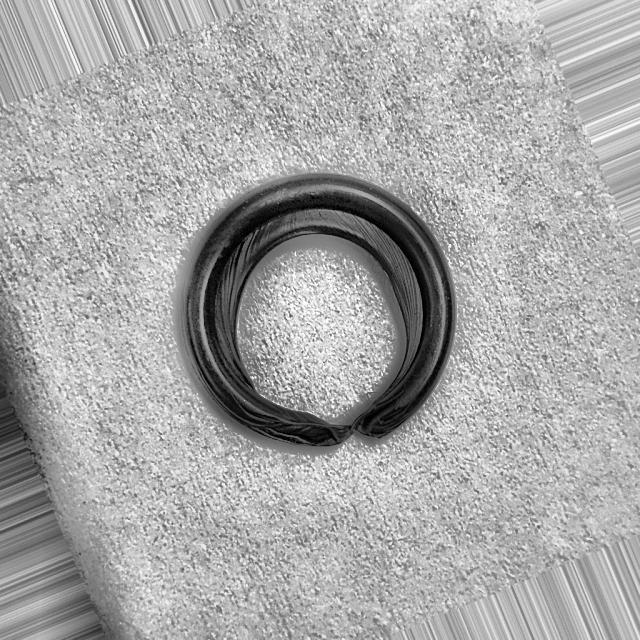切割缺陷: (235, 397, 340, 446), (367, 391, 420, 438)
挤压缺陷: (332, 412, 382, 445)
裂纹: (204, 209, 423, 425)
